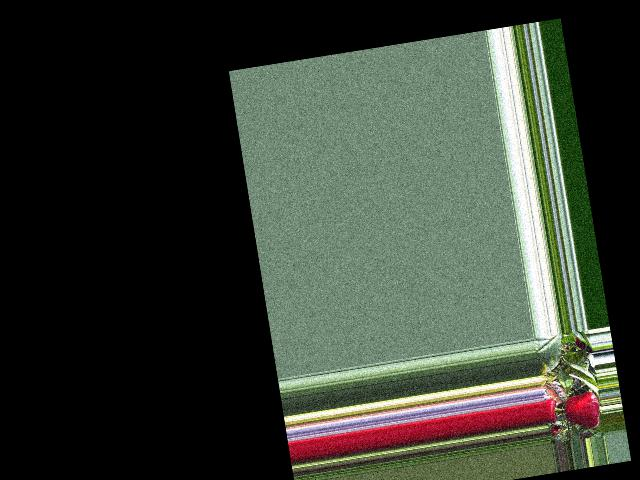bell_pepper: (542, 395, 561, 425)
